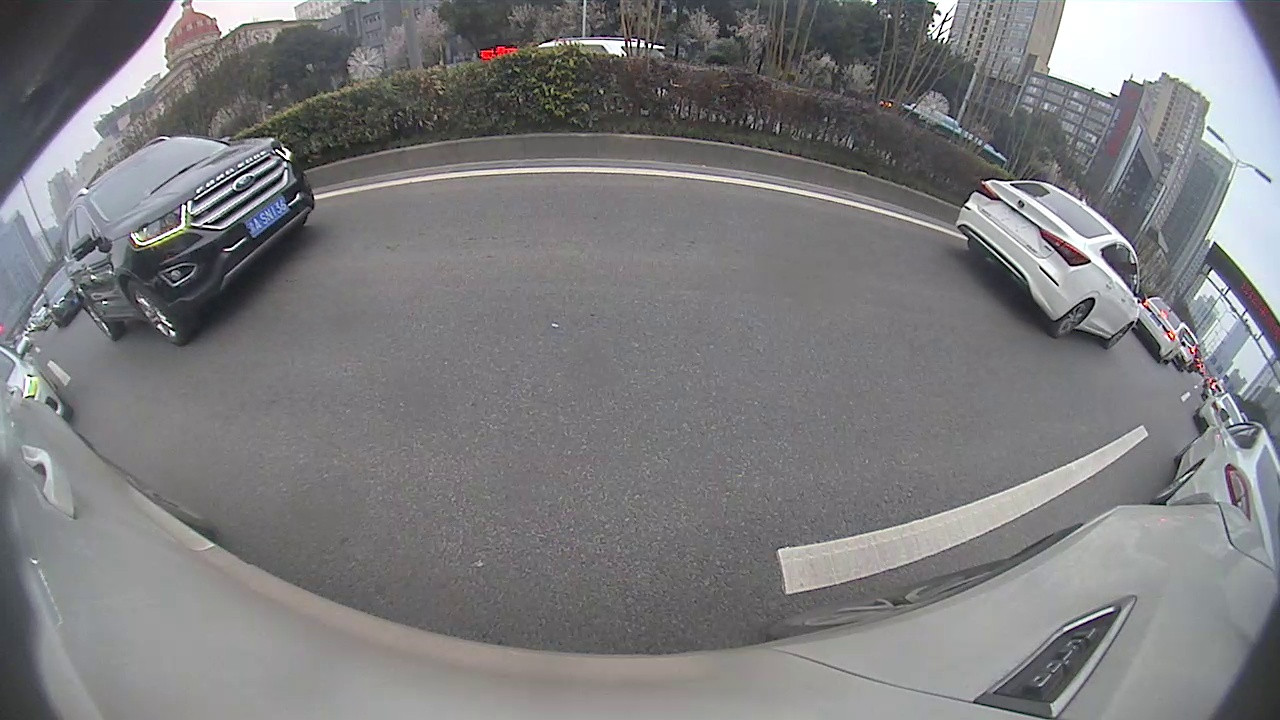car: (59, 134, 319, 349), (954, 178, 1149, 353), (1145, 406, 1279, 553), (1134, 296, 1188, 366)
front: (130, 281, 187, 347), (1107, 327, 1130, 353)
rear: (1053, 301, 1094, 341), (81, 301, 116, 341)
